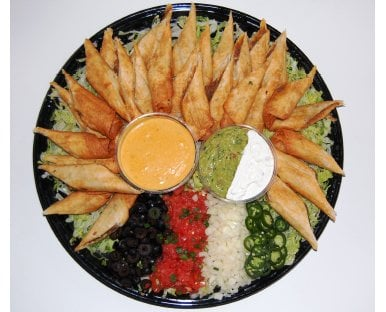curry: (300, 117, 344, 168), (300, 118, 335, 155)
